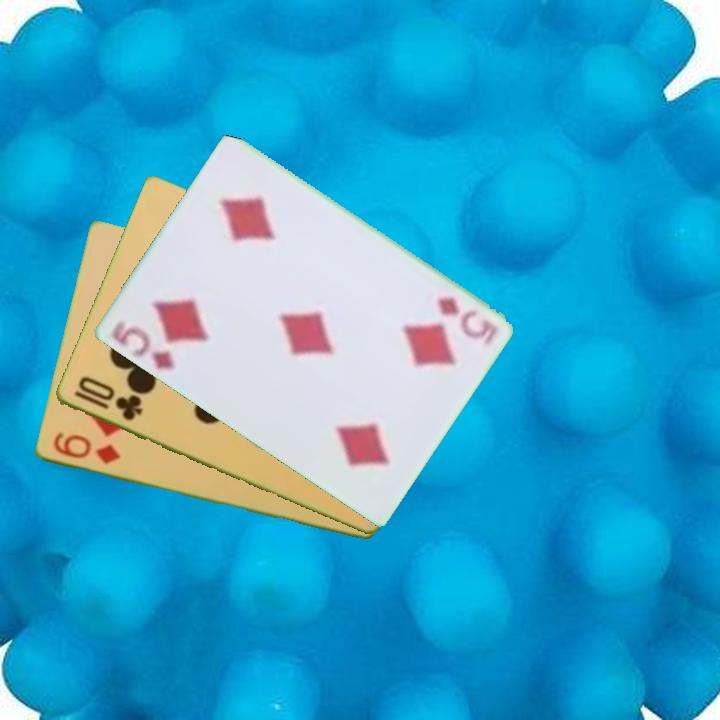10c: (69, 373, 145, 424)
5d: (106, 316, 178, 373), (433, 293, 487, 336)
6d: (49, 429, 123, 468)
